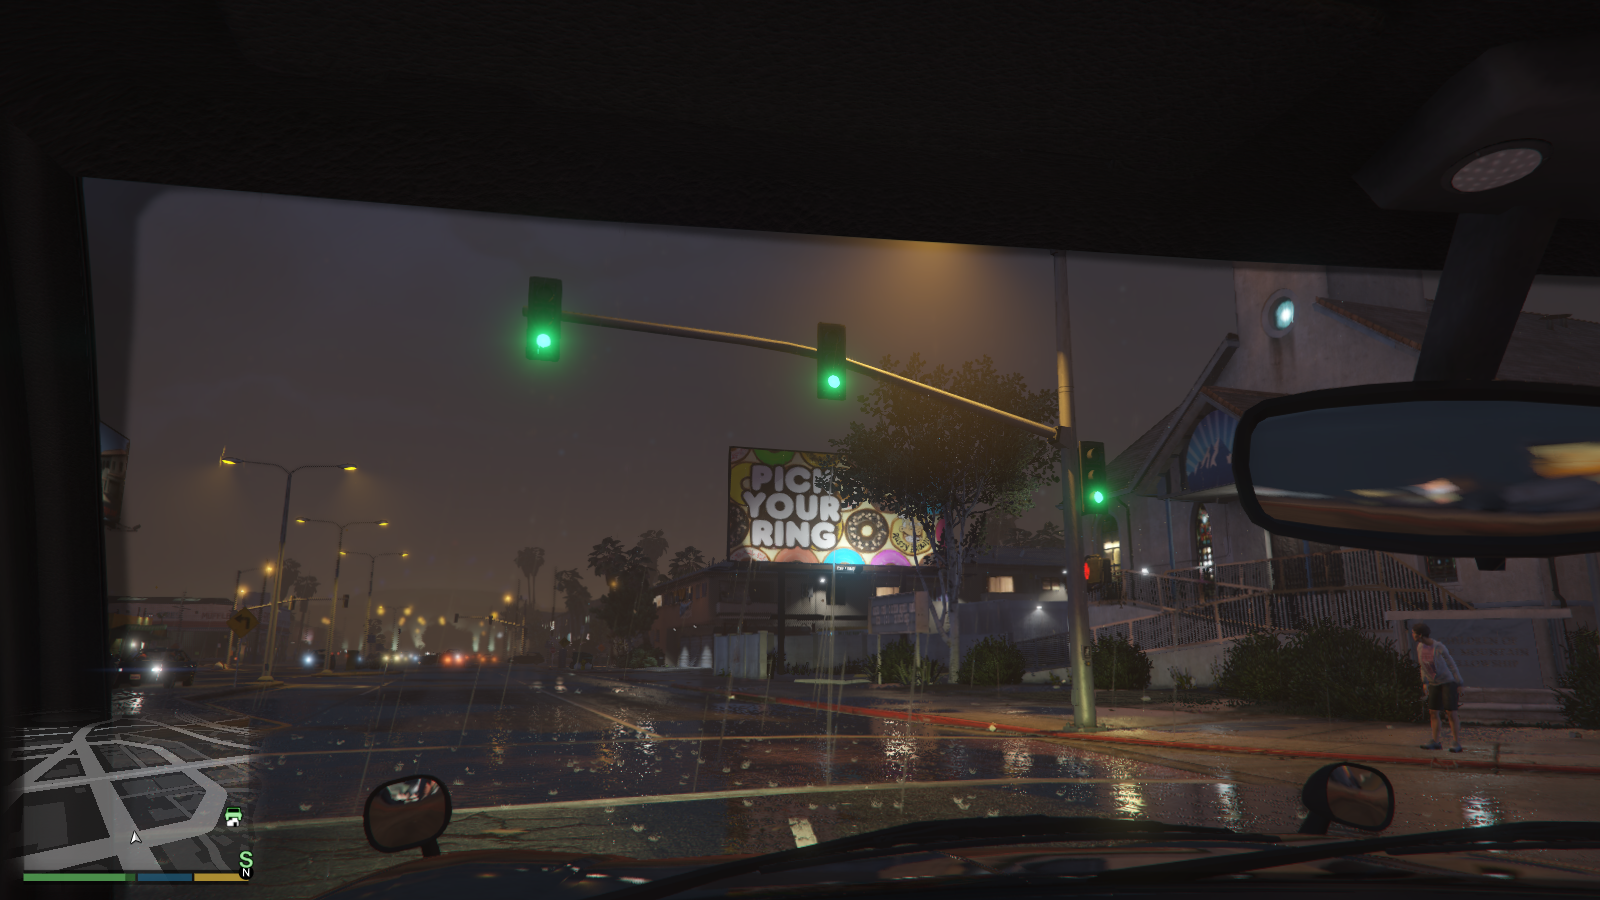green: (525, 275, 567, 362), (815, 320, 852, 405), (1078, 441, 1111, 516)
